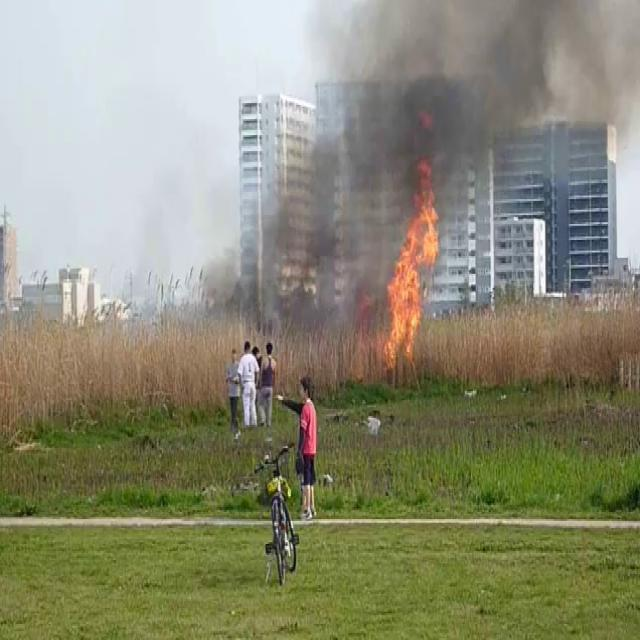Fire: (382, 163, 440, 370)
Smoke: (298, 0, 640, 242)
